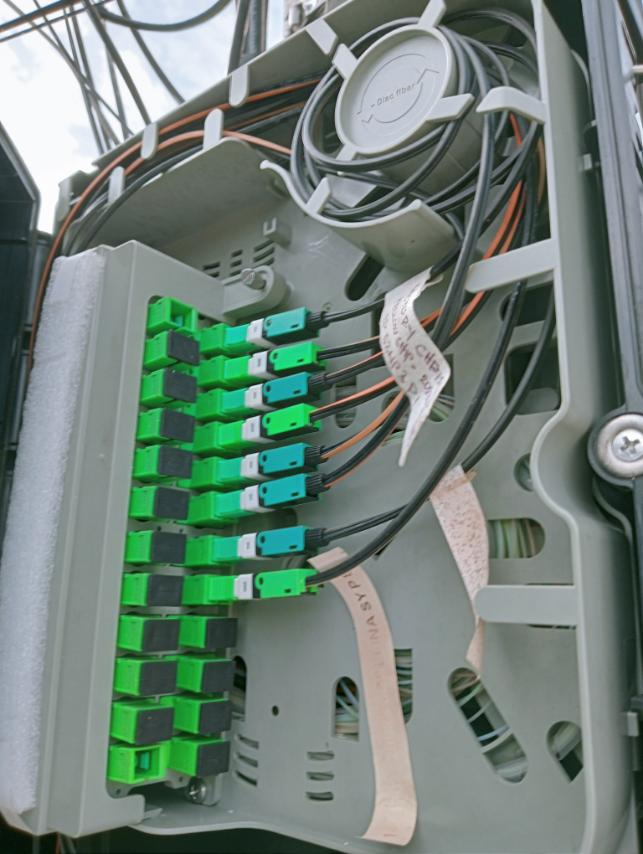no dust cap: (131, 744, 168, 784), (168, 298, 197, 334)
occupied: (219, 362, 329, 411), (222, 332, 332, 381), (223, 299, 333, 348), (210, 556, 320, 605), (215, 511, 325, 560), (215, 465, 325, 514), (217, 435, 327, 484), (217, 397, 327, 446)
vacant: (142, 618, 181, 653), (135, 709, 173, 744), (139, 662, 178, 696), (145, 574, 184, 608), (167, 331, 200, 367), (162, 406, 195, 442), (163, 368, 196, 403), (155, 487, 188, 522), (151, 532, 186, 565), (158, 444, 190, 480), (203, 659, 237, 692), (197, 699, 231, 732), (196, 744, 230, 777), (204, 617, 238, 650)
